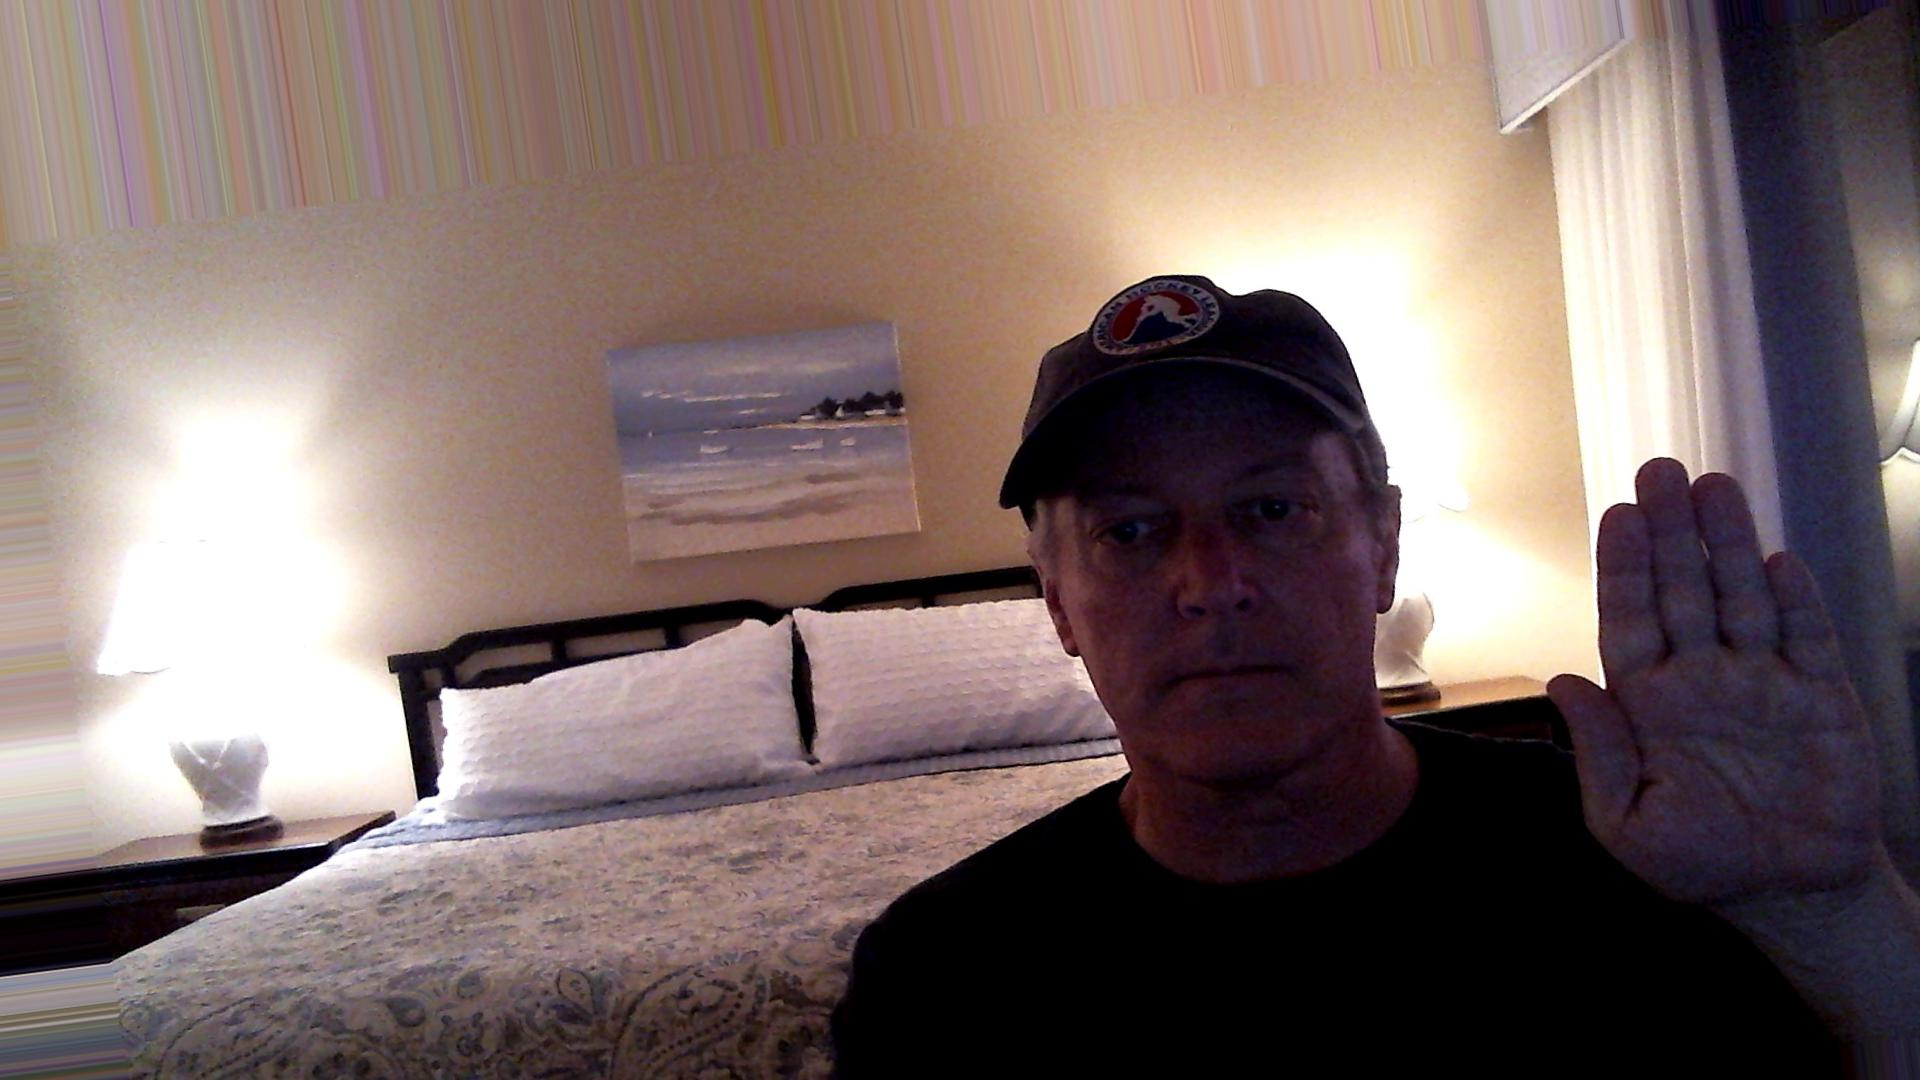Hello: (1535, 448, 1902, 916)
